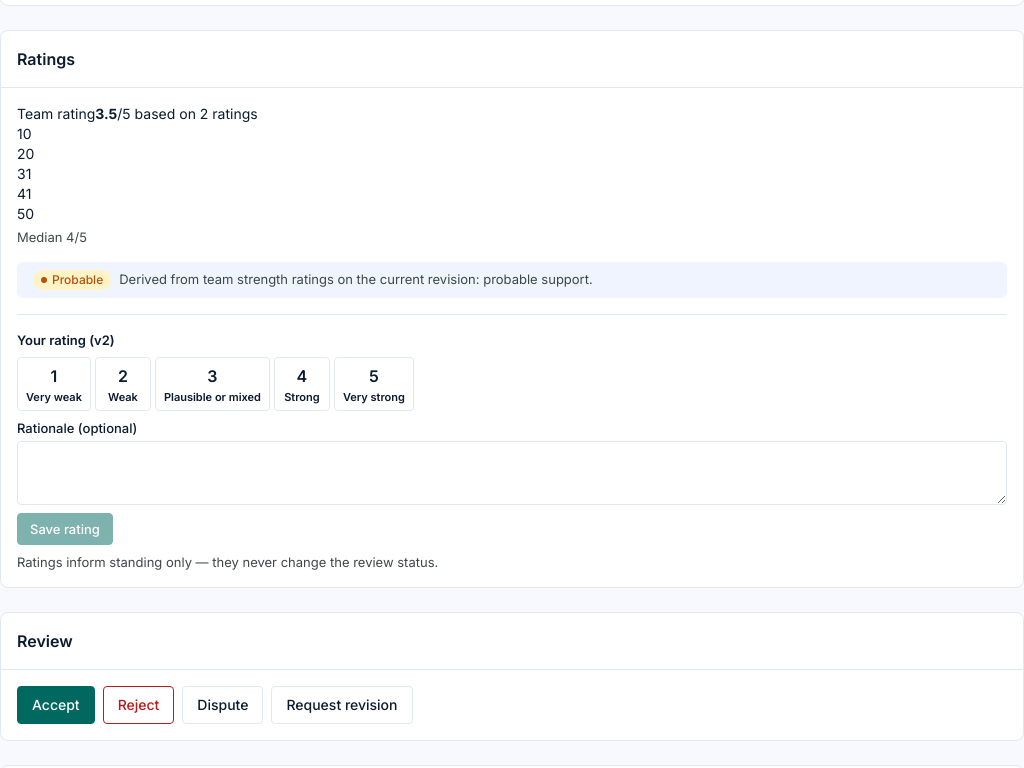
Test: AssertionDetailPage › saves a strength rating against the current revision
(page scrolled)
Click the radio button with aria-label "4 - Strong". click: (302, 384)
box: [274, 357, 330, 411]
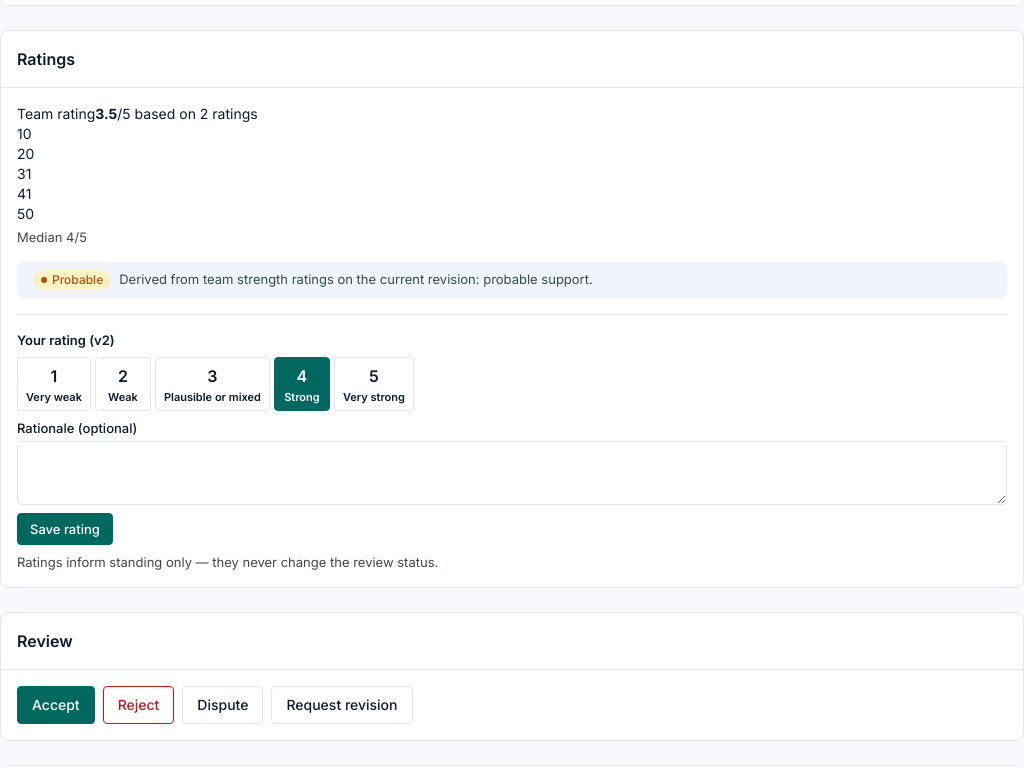
Click the button "Save rating". click: (65, 529)
box: [17, 513, 113, 545]
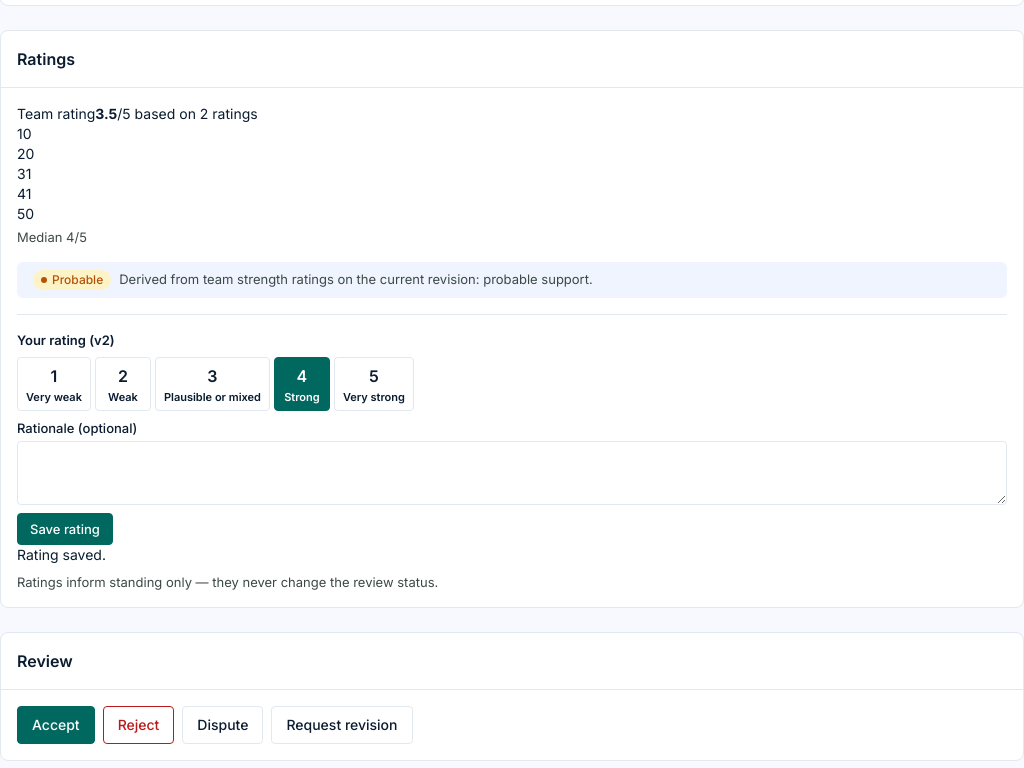
expect the text "Rating saved." is shown: met, box [17, 546, 106, 563]
